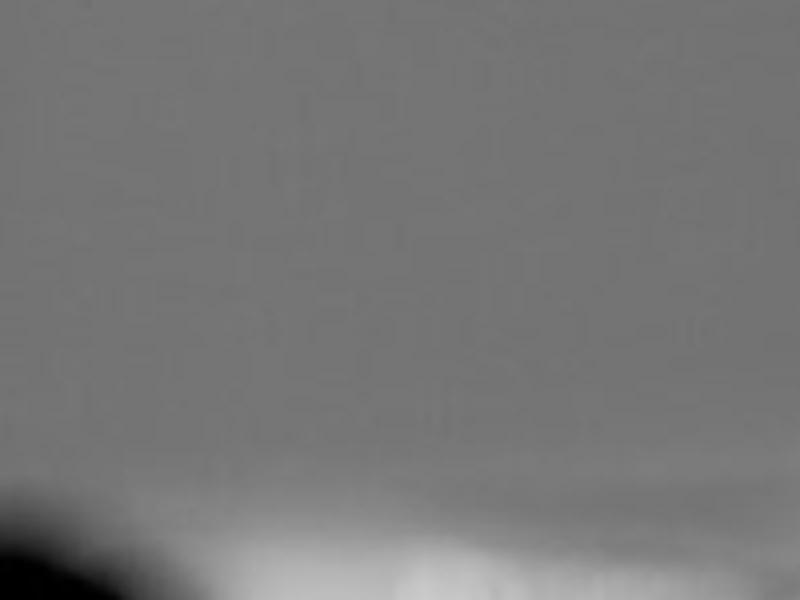defect: (4, 522, 187, 600)
